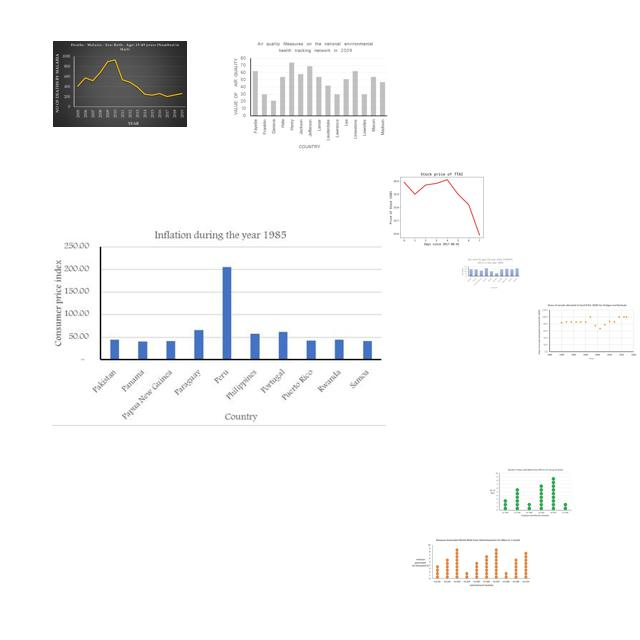Graph: (52, 226, 386, 426), (230, 37, 390, 153), (53, 41, 187, 127), (387, 167, 494, 247), (408, 537, 533, 590), (536, 302, 638, 363), (488, 468, 573, 518), (460, 257, 521, 290)
